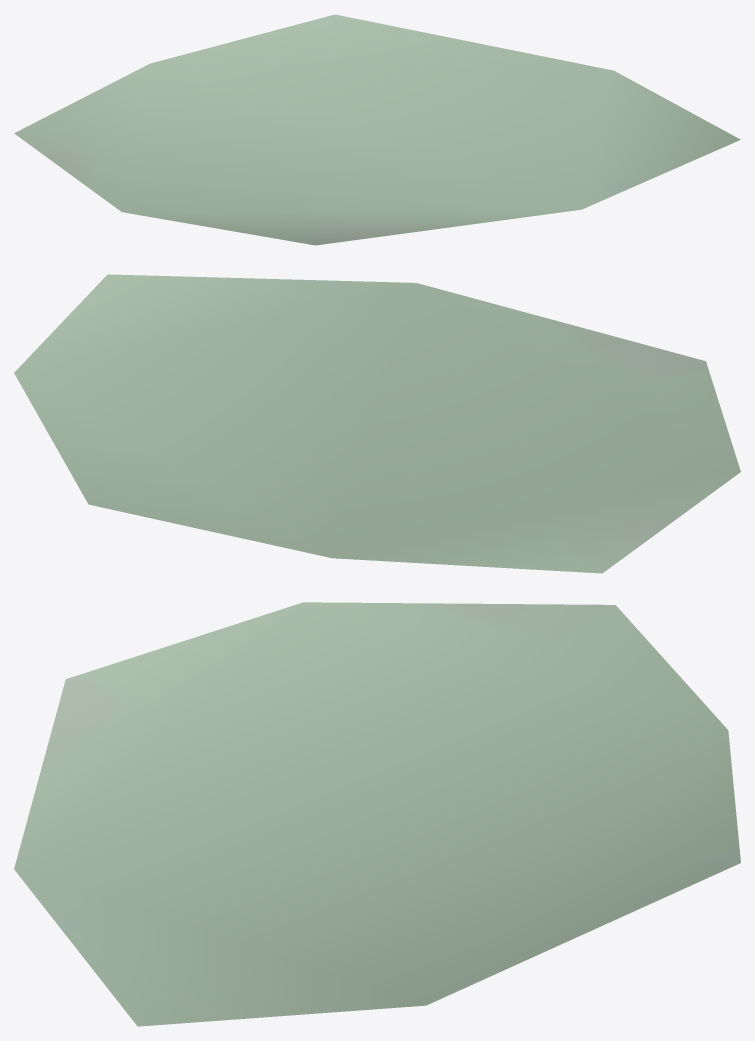
Rendered from TROLLHOLE02_HOLECAP206.fbx.
3 renders of one model, top to bottom at view 1: azimuth 30°, elevation 25°; view 2: azimuth 150°, elevation 25°; view 3: azimuth 270°, elevation 25°, orthographic. The views are drawn at different scales.
Parts seen in each view (by area): view 1: TROLLHOLE02_HOLECAP206; view 2: TROLLHOLE02_HOLECAP206; view 3: TROLLHOLE02_HOLECAP206.
Boxes of the visible parts, x1=… form: TROLLHOLE02_HOLECAP206: x1=14, y1=14, x2=740, y2=245; TROLLHOLE02_HOLECAP206: x1=14, y1=274, x2=740, y2=573; TROLLHOLE02_HOLECAP206: x1=14, y1=602, x2=740, y2=1026.
Size of the model in its own units: 10589 by 407 by 8290.
Materials: 1 (1 with a texture image).
